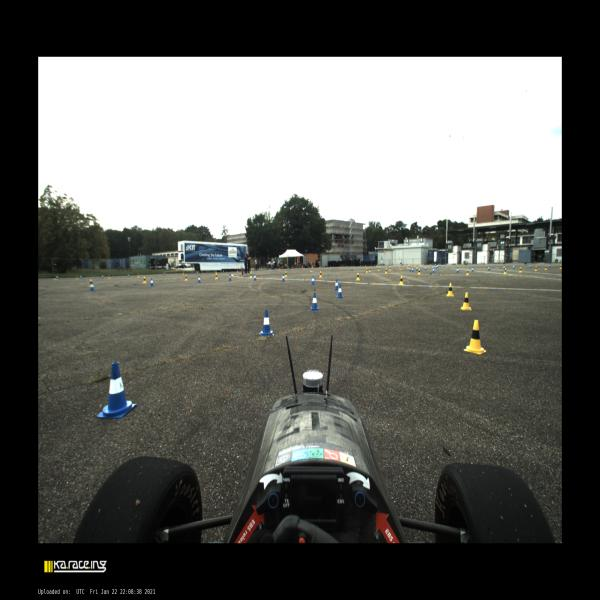blue_cone: (98, 362, 138, 419), (259, 310, 274, 337), (310, 292, 319, 310), (336, 284, 344, 298), (334, 280, 338, 290), (90, 282, 95, 290), (311, 276, 315, 285), (150, 278, 154, 287), (228, 274, 232, 282), (198, 276, 202, 283), (282, 274, 285, 282), (456, 267, 459, 273), (432, 268, 435, 273), (471, 267, 474, 272), (254, 274, 256, 281), (410, 266, 412, 272), (488, 265, 490, 271), (513, 264, 515, 270), (529, 264, 532, 268), (412, 267, 414, 272), (416, 266, 418, 271), (503, 265, 505, 270), (424, 266, 426, 270), (80, 275, 82, 279), (548, 263, 550, 267), (102, 275, 104, 278), (128, 274, 130, 277), (288, 267, 290, 270), (400, 264, 402, 267), (443, 264, 445, 267), (436, 265, 437, 269), (164, 272, 165, 276), (261, 269, 263, 271), (274, 268, 276, 270), (332, 266, 334, 268), (197, 271, 198, 274), (223, 270, 224, 273), (310, 266, 311, 269), (374, 264, 375, 267), (388, 264, 389, 267), (440, 264, 441, 267), (433, 266, 434, 269), (437, 265, 438, 268), (347, 266, 348, 268), (423, 264, 424, 266), (435, 264, 436, 266)
large_orange_cone: (301, 265, 303, 269), (311, 265, 313, 269)
yellow_cone: (464, 320, 486, 354), (460, 292, 472, 310), (447, 283, 454, 297), (398, 275, 404, 285), (142, 276, 147, 284), (184, 274, 189, 281), (356, 273, 360, 281), (466, 268, 470, 276), (518, 266, 522, 274), (417, 268, 421, 275), (503, 268, 507, 275), (284, 271, 288, 277), (319, 271, 322, 278), (215, 273, 218, 280), (534, 266, 538, 271), (385, 268, 388, 274), (544, 265, 547, 271), (89, 279, 91, 287), (366, 267, 368, 273), (378, 266, 380, 272), (369, 267, 371, 273), (250, 272, 252, 278), (137, 274, 140, 278), (389, 266, 391, 271), (560, 265, 562, 269), (399, 266, 401, 270), (407, 265, 409, 269), (76, 276, 78, 280), (108, 275, 110, 279), (215, 270, 217, 274), (303, 266, 305, 270), (279, 268, 281, 271), (319, 266, 321, 269), (353, 265, 355, 268), (376, 264, 378, 267), (414, 264, 416, 266), (56, 277, 57, 280), (251, 269, 252, 272), (292, 267, 293, 270), (183, 272, 184, 274), (237, 270, 238, 272), (330, 266, 331, 268), (341, 266, 342, 268), (365, 265, 366, 267), (412, 264, 412, 267), (418, 264, 418, 268)
